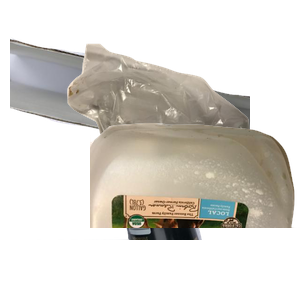cardboard: (10, 35, 250, 188)
glass: (37, 120, 231, 300)
plastic: (90, 120, 300, 300)
trash: (65, 41, 300, 221)
